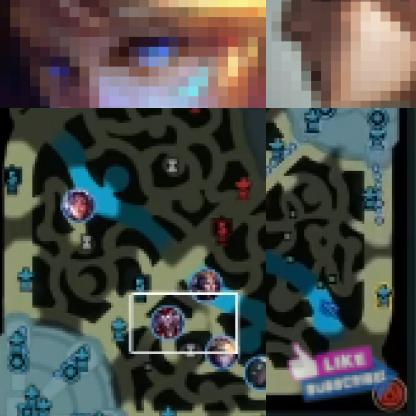Camille: (266, 0, 415, 107)
Ezreal: (0, 0, 265, 107), (204, 337, 239, 370)
Irelia: (62, 189, 95, 222)
Leblanc: (190, 268, 225, 301)
Senna: (243, 355, 265, 390)
Shaco: (151, 306, 185, 340)
